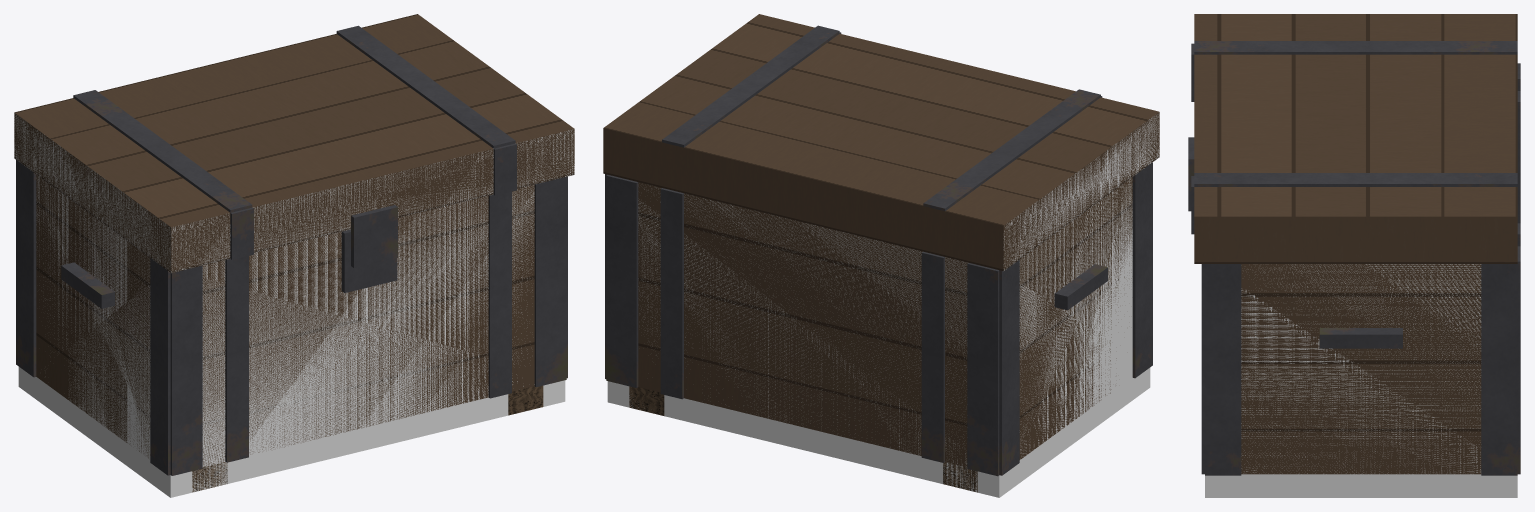
File: chest.glb
3 renders of one model, left to right at view 1: azimuth 30°, elevation 25°; view 2: azimuth 150°, elevation 25°; view 3: azimuth 270°, elevation 25°, orthographic. The views are drawn at different scales.
Parts seen in each view (by area): view 1: chest, MOB_LID, COL_HULL_chest, COL_HULL_lid; view 2: chest, MOB_LID, COL_HULL_chest, COL_HULL_lid; view 3: MOB_LID, chest, COL_HULL_chest.
Part boxes in pixels (bbox=[...]): chest: bbox=[16, 160, 567, 492]; MOB_LID: bbox=[14, 14, 574, 272]; COL_HULL_chest: bbox=[18, 176, 565, 497]; COL_HULL_lid: bbox=[14, 113, 574, 272]; chest: bbox=[605, 162, 1152, 492]; MOB_LID: bbox=[603, 14, 1159, 270]; COL_HULL_chest: bbox=[607, 179, 1150, 497]; COL_HULL_lid: bbox=[1003, 114, 1159, 270]; MOB_LID: bbox=[1188, 14, 1517, 263]; chest: bbox=[1201, 63, 1520, 475]; COL_HULL_chest: bbox=[1205, 264, 1517, 497].
Bounding box in the file's own units: 0.96 × 0.606 × 0.638.
3 materials, 3 textured.
